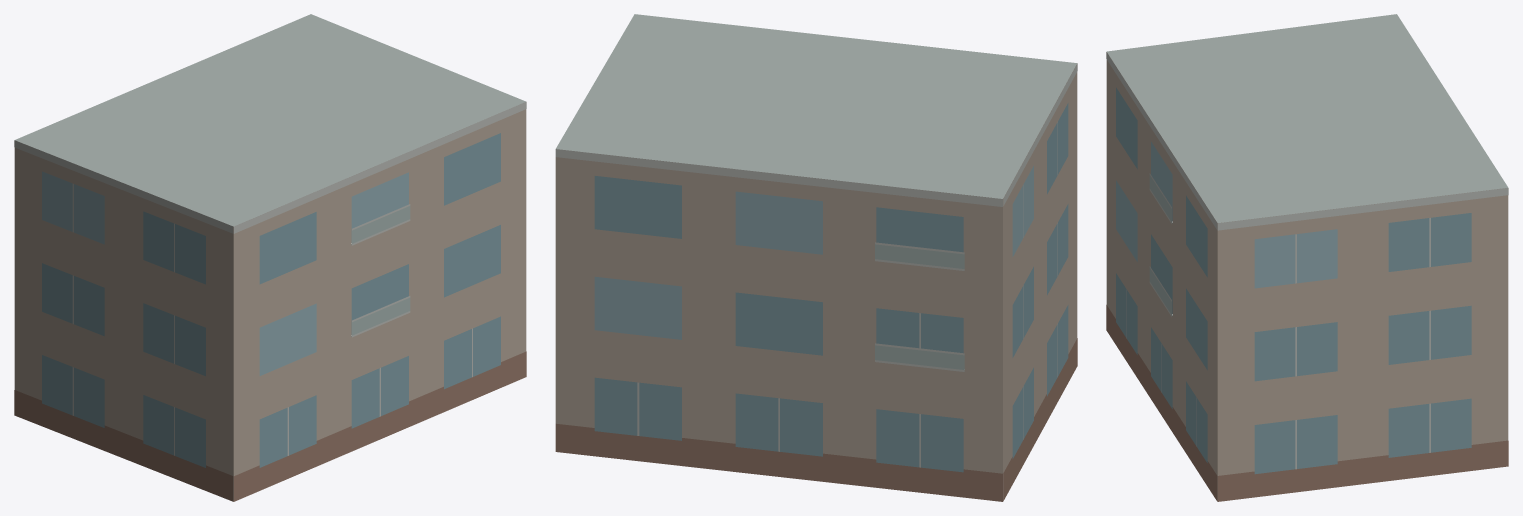
Rendered from survey-upis-32762055.glb.
3 renders of one model, left to right at view 1: azimuth 30°, elevation 25°; view 2: azimuth 150°, elevation 25°; view 3: azimuth 270°, elevation 25°, orthographic. The views are drawn at different scales.
Visible parts, largest first — view 1: survey-upis-32762055.tmp; view 2: survey-upis-32762055.tmp; view 3: survey-upis-32762055.tmp.
Boxes of the visible parts, left/top/right/bottom form: survey-upis-32762055.tmp: left=14, top=14, right=526, bottom=501; survey-upis-32762055.tmp: left=555, top=14, right=1077, bottom=501; survey-upis-32762055.tmp: left=1106, top=14, right=1508, bottom=501.
Size of the model in its own units: 14.74 by 9.15 by 11.97.
